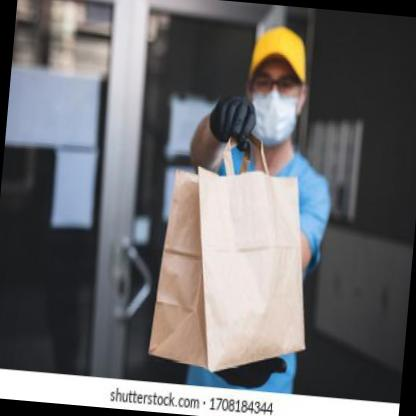Gloves: (211, 350, 288, 390), (206, 95, 257, 152)
